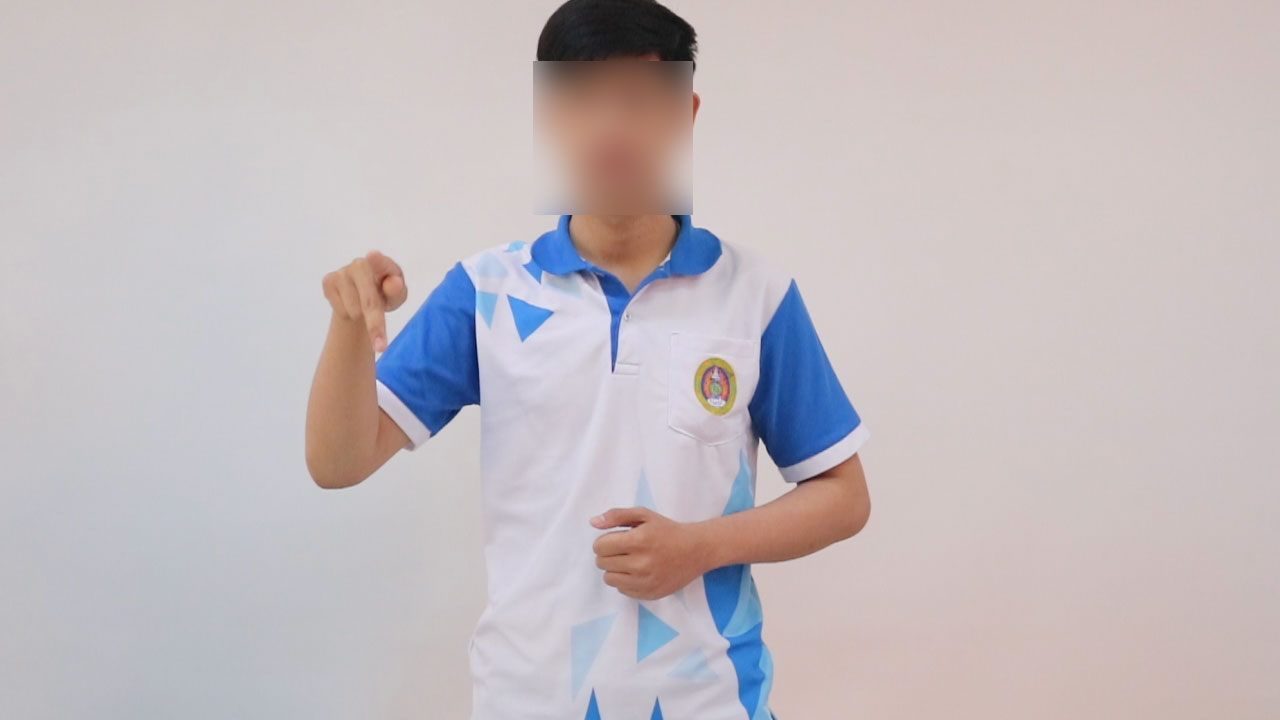por: (313, 233, 414, 358)
